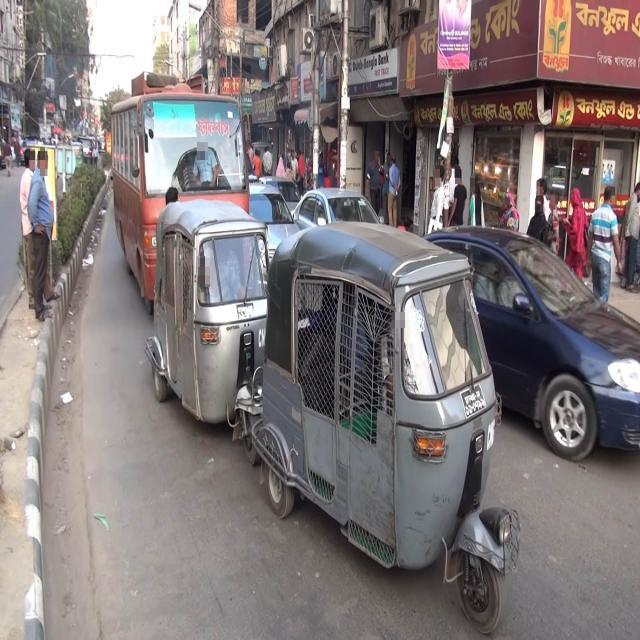CNG: (253, 207, 529, 630), (145, 175, 272, 436)
